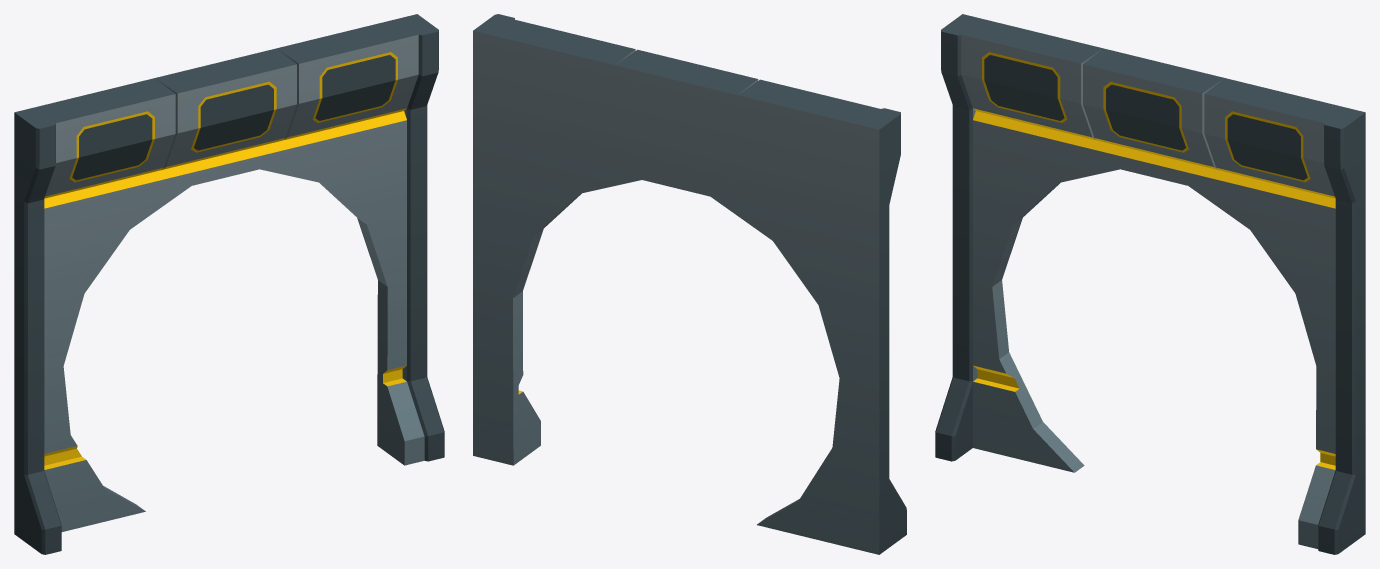
The model's file is Wall_type_C_061.fbx.
The picture shows the model from 3 angles, left to right: view 1: azimuth 30°, elevation 25°; view 2: azimuth 150°, elevation 25°; view 3: azimuth 330°, elevation 25°; orthographic projection.
Parts seen in each view (by area): view 1: Wall_type_C_061; view 2: Wall_type_C_061; view 3: Wall_type_C_061.
Boxes of the visible parts, left/top/right/bottom form: Wall_type_C_061: left=14, top=14, right=444, bottom=554; Wall_type_C_061: left=473, top=14, right=906, bottom=554; Wall_type_C_061: left=935, top=14, right=1365, bottom=554.
Bounding box in the file's own units: 400 × 50 × 400.
